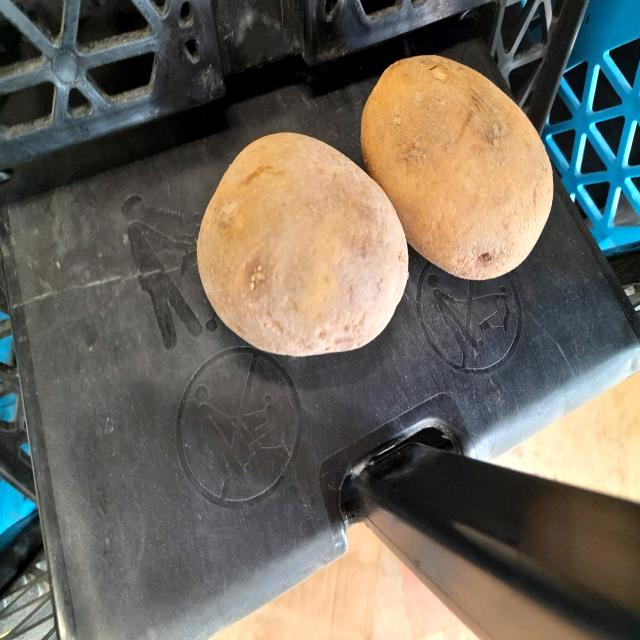potato: (178, 120, 418, 362), (355, 36, 560, 281)
